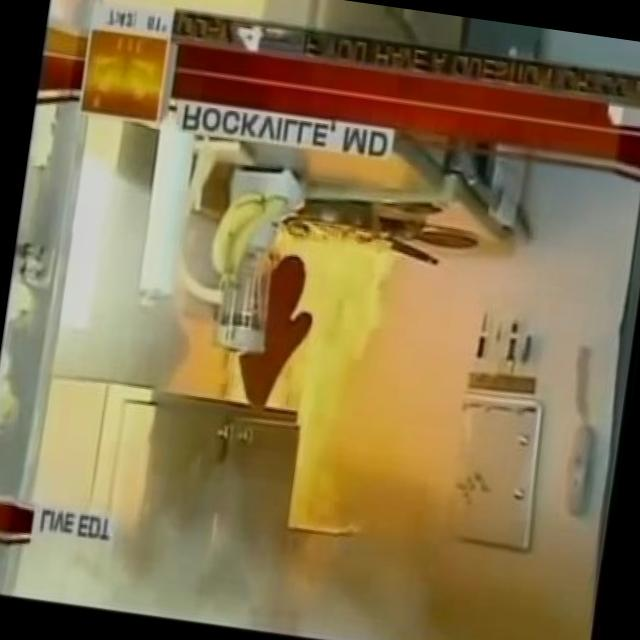fire: (175, 190, 438, 588)
